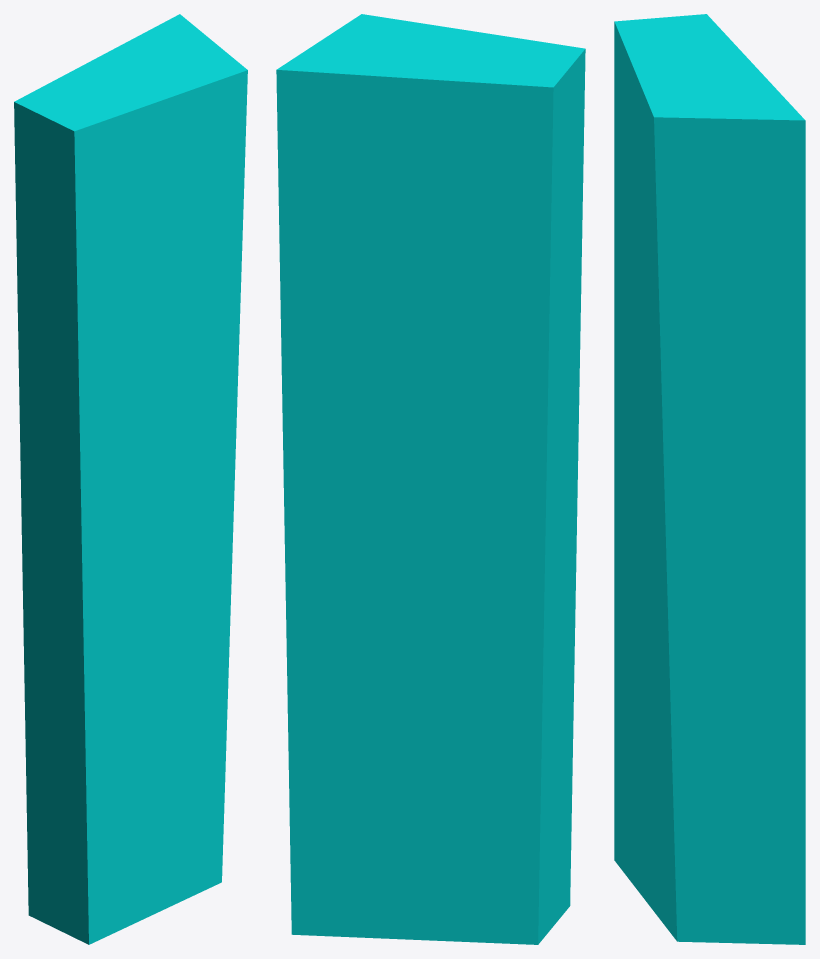
Rendered from SM_Env_Bamboo_05_Collision.fbx.
3 views of the same model, side by side, from view 1: azimuth 30°, elevation 25°; view 2: azimuth 150°, elevation 25°; view 3: azimuth 270°, elevation 25° (orthographic). The views are drawn at different scales.
Parts seen in each view (by area): view 1: SM_Env_Bamboo_05_Collision; view 2: SM_Env_Bamboo_05_Collision; view 3: SM_Env_Bamboo_05_Collision.
Part boxes in pixels (x1,y1,x2,y2): SM_Env_Bamboo_05_Collision: [14, 14, 247, 944]; SM_Env_Bamboo_05_Collision: [276, 14, 585, 944]; SM_Env_Bamboo_05_Collision: [614, 14, 805, 944].
Bounding box in the file's own units: 77.38 × 282 × 58.68.
